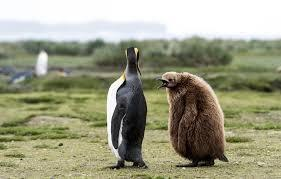king: (99, 31, 161, 175)
